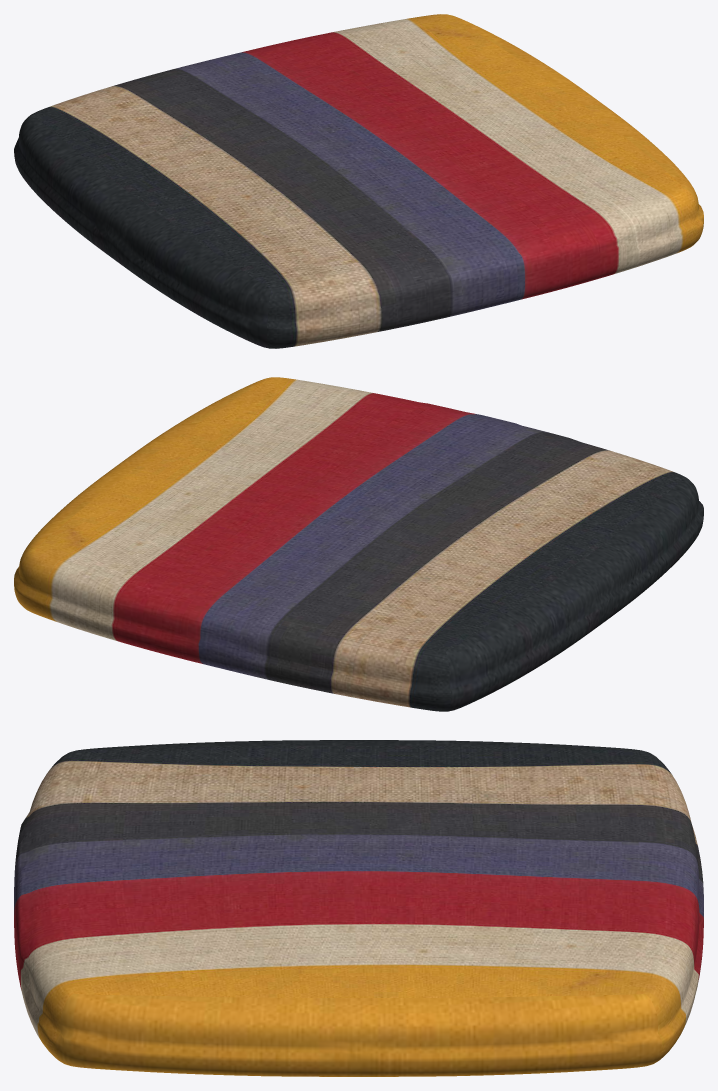
Rendered from box_lid_zebra.gltf.
The picture shows the model from 3 angles, top to bottom: view 1: azimuth 30°, elevation 25°; view 2: azimuth 150°, elevation 25°; view 3: azimuth 270°, elevation 25°; orthographic projection. The views are drawn at different scales.
Parts seen in each view (by area): view 1: 001_Cube.002; view 2: 001_Cube.002; view 3: 001_Cube.002.
Part boxes in pixels (bbox=[...]): 001_Cube.002: bbox=[14, 14, 703, 348]; 001_Cube.002: bbox=[14, 377, 703, 711]; 001_Cube.002: bbox=[14, 740, 703, 1076].
Bounding box in the file's own units: 0.4805 × 0.066 × 0.4805.
1 material, 1 textured.
